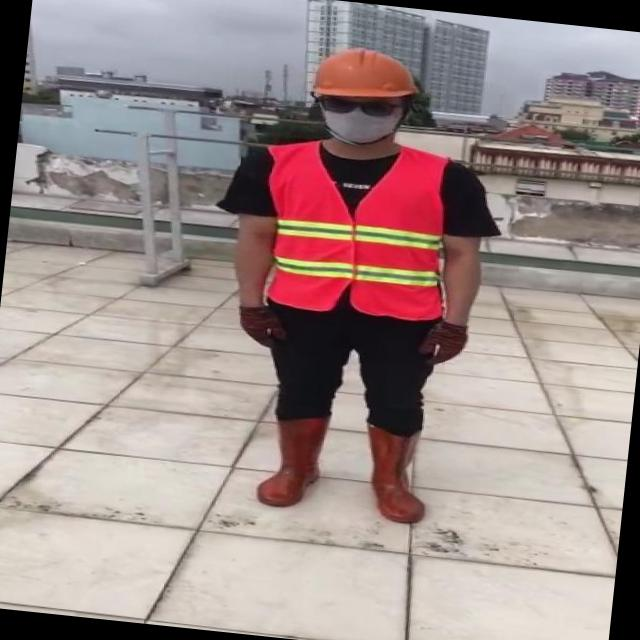hard_hat: (304, 40, 422, 105)
safety_vest: (258, 134, 460, 322)
vehicle: (190, 36, 510, 530)
work_boots: (354, 421, 434, 524), (252, 412, 331, 510)
